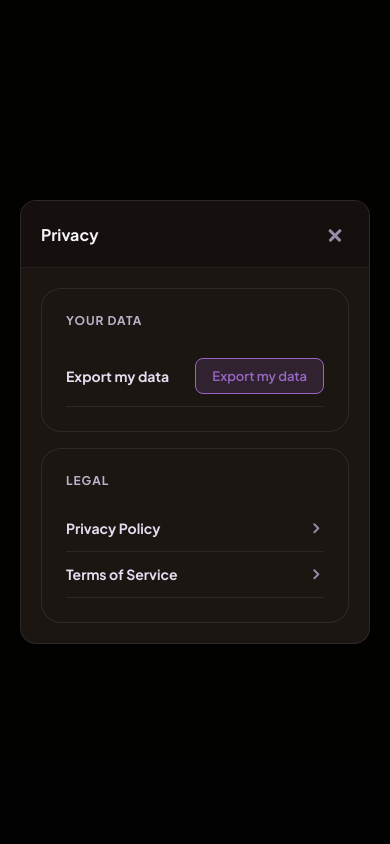
Test case: Privacy → Export my data › downloads the whole export under a dated name
The width and height of the screenshot is (390, 844).
Click the button "Export my data".
click(260, 376)  # box [195,358,324,394]
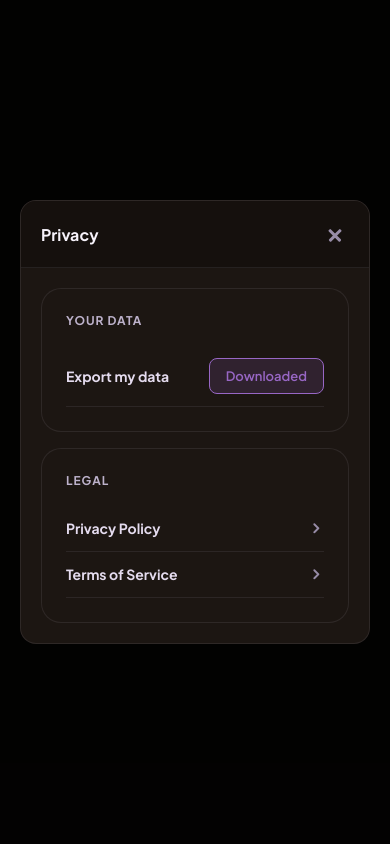
Check: the button "Downloaded" is shown, box [209,358,324,394]
